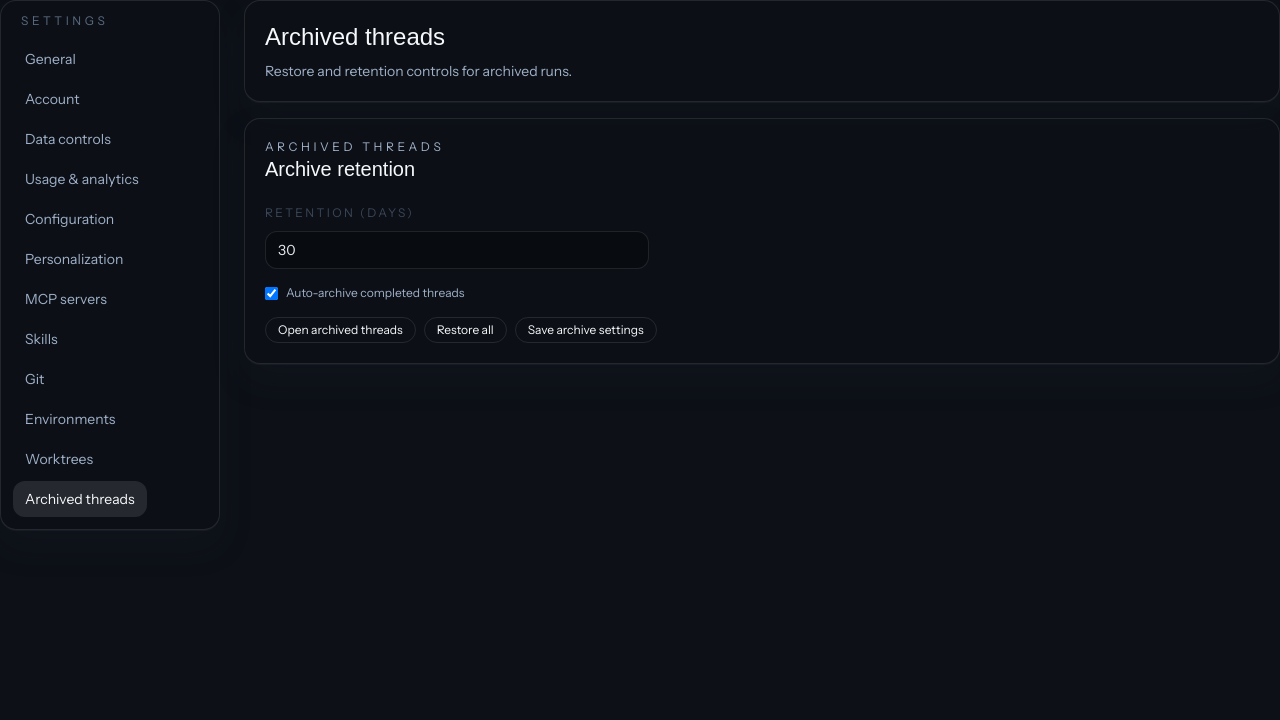
Test case: SettingsPage archived threads › loads archived threads and restores an individual thread
Step 1. Click the button "Open archived threads" → (340, 330), box [265,317,416,343]
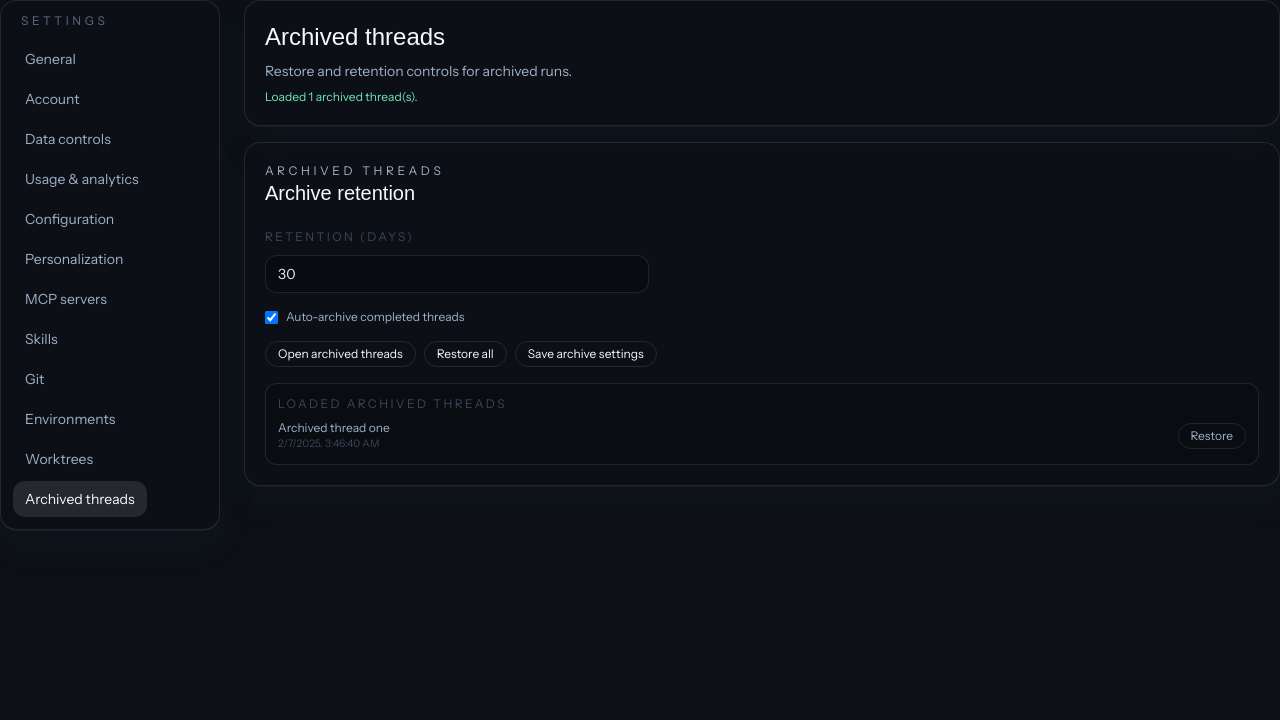
Check: the text "Archived thread one" is shown, box [278,420,390,436]
Step 2. Click the button "Restore" → (1212, 436), box [1178,423,1246,449]
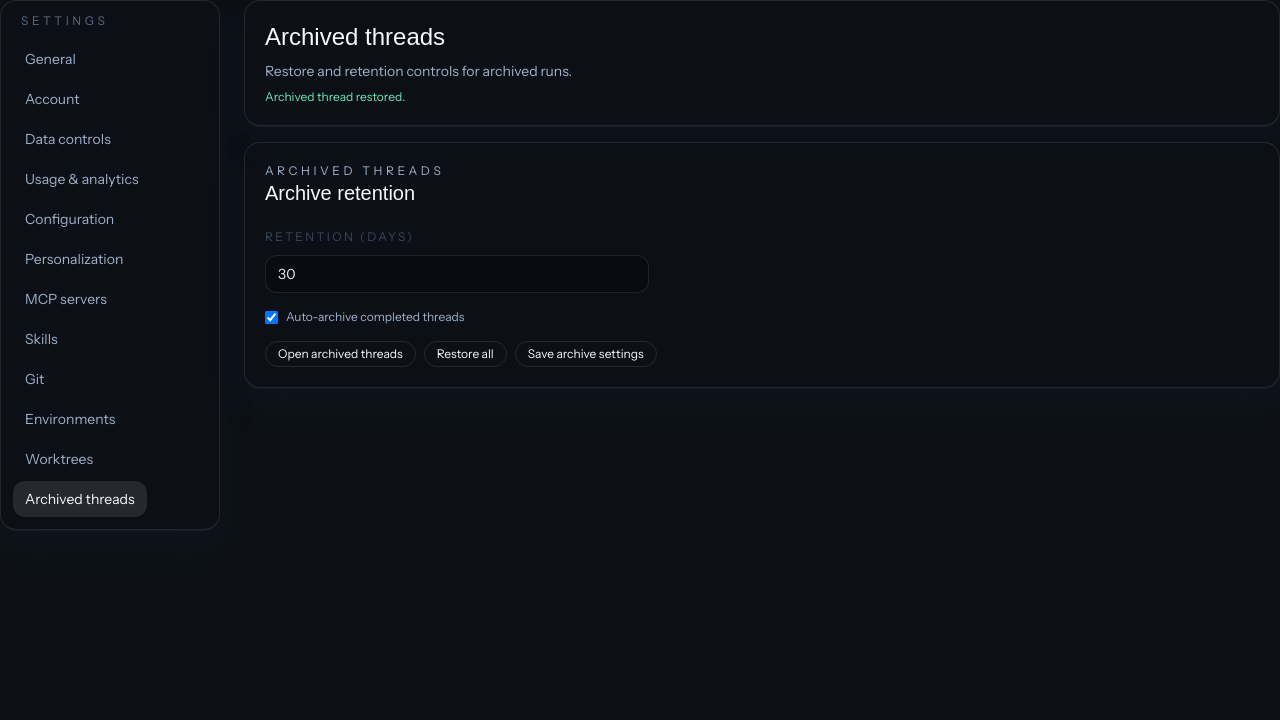
Check: the text "Archived thread one" is gone
